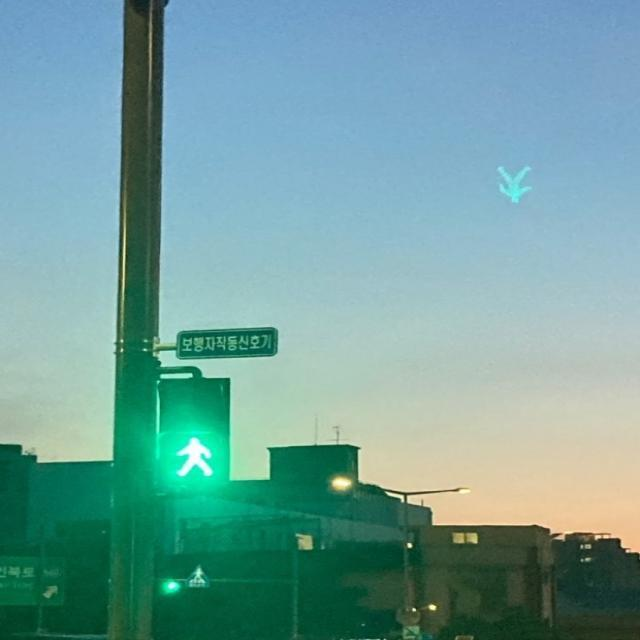green_light: (169, 431, 221, 484)
